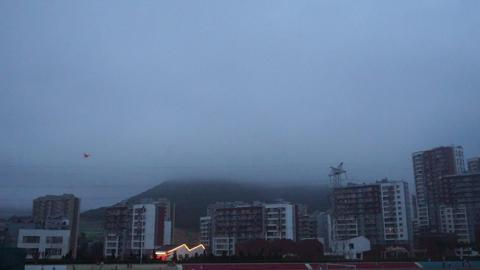UAV: (82, 153, 90, 158)
